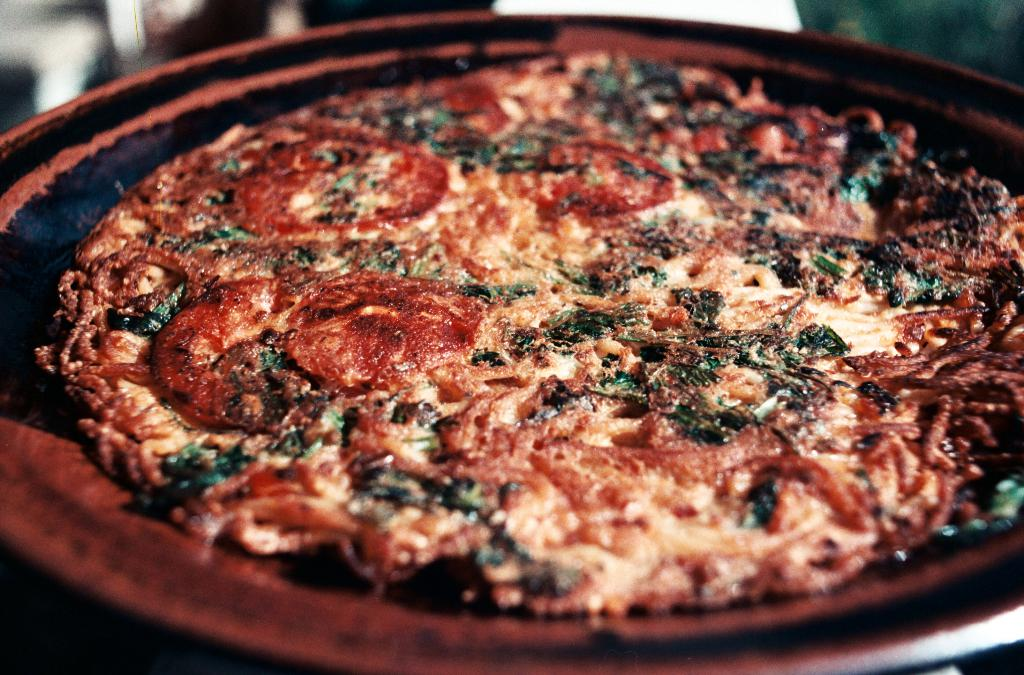Pizza: (0, 24, 997, 675)
